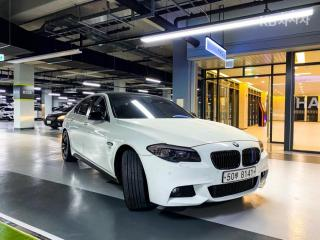0: (231, 173, 235, 181)
1: (244, 169, 248, 178), (250, 169, 254, 177)
4: (247, 169, 251, 178)
5: (227, 172, 231, 181)
8: (240, 171, 245, 179)
루: (234, 171, 239, 180)
